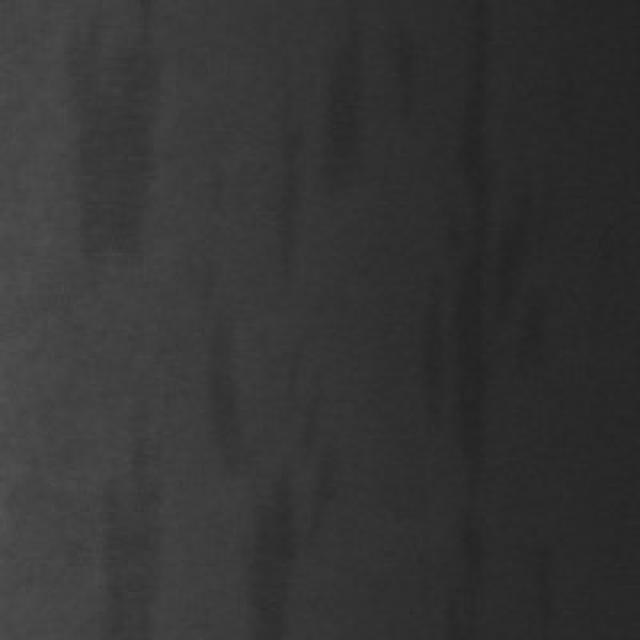inclusion: (416, 0, 544, 618), (195, 294, 333, 630), (54, 0, 164, 253), (80, 384, 166, 634), (304, 0, 384, 198), (260, 118, 310, 288)
